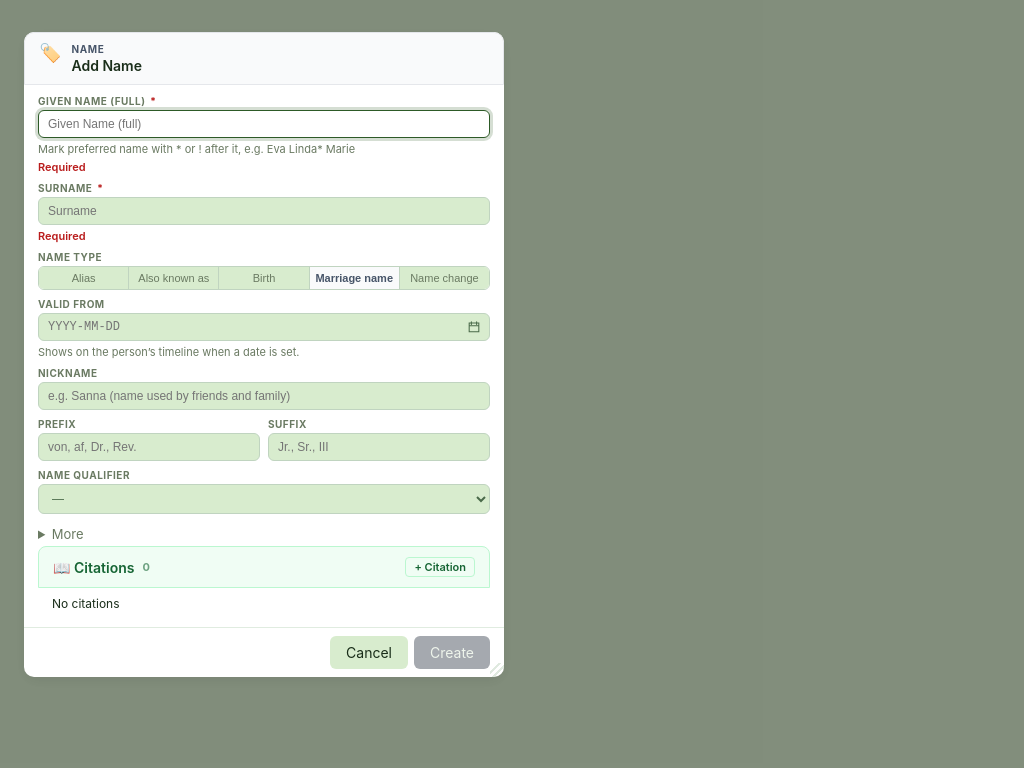
Test: PersonNameModal — Save is disabled until at least one identifier is provided › typing in surname alone enables Save (mononym path)
Type "Andersson" into the field with class "ep-input" showing "Surname" at (264,211), box [38,197,490,225]
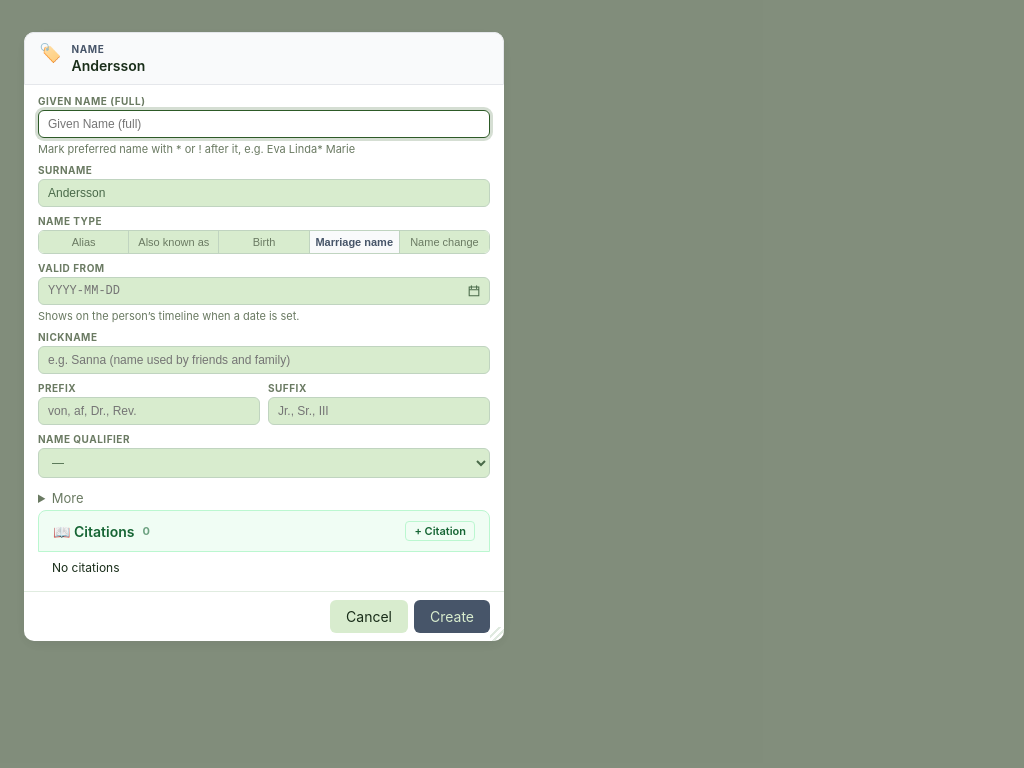
Expected: the button with class "ep-save-btn" is enabled, [414,600,490,633]
